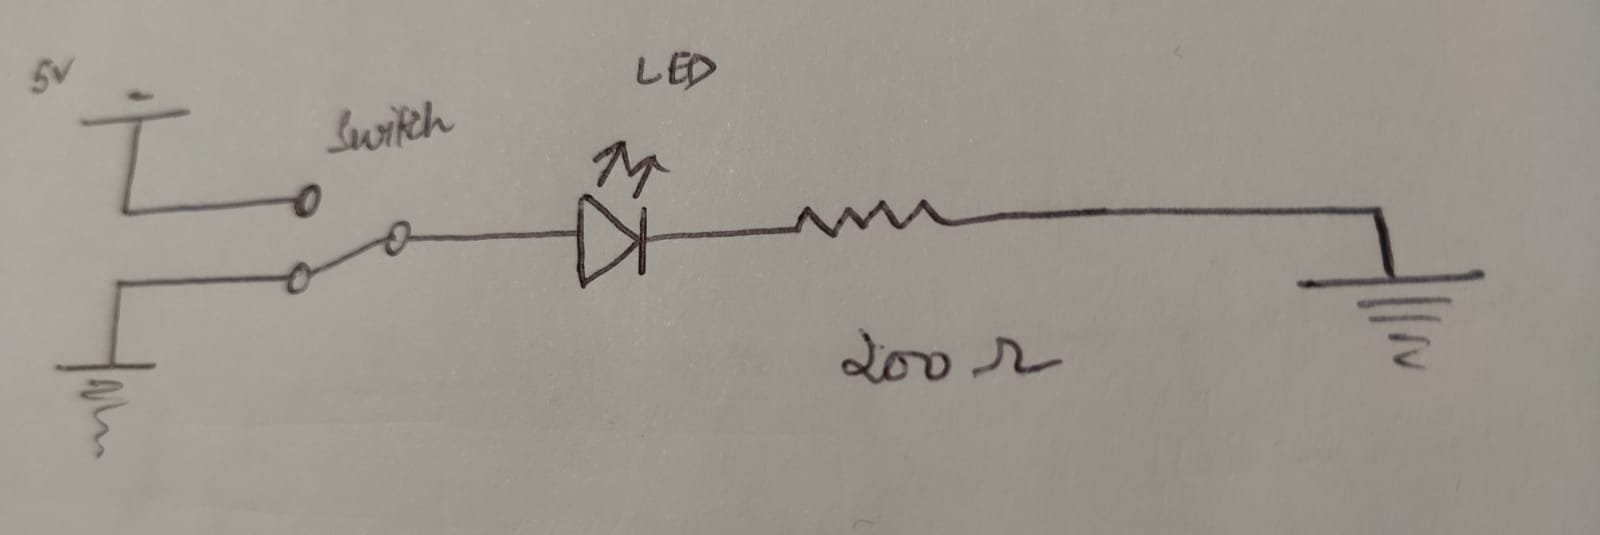diode.light_emitting: (569, 137, 664, 287)
gnd: (1298, 267, 1483, 374), (53, 359, 158, 459)
junction: (1360, 197, 1393, 230), (114, 200, 141, 224), (108, 274, 132, 296)
resistor: (786, 198, 946, 237)
switch: (280, 180, 419, 297)
text: (843, 327, 1066, 390), (334, 102, 458, 155), (634, 49, 718, 86), (29, 53, 76, 96)
voltage.dc: (82, 87, 193, 131)
